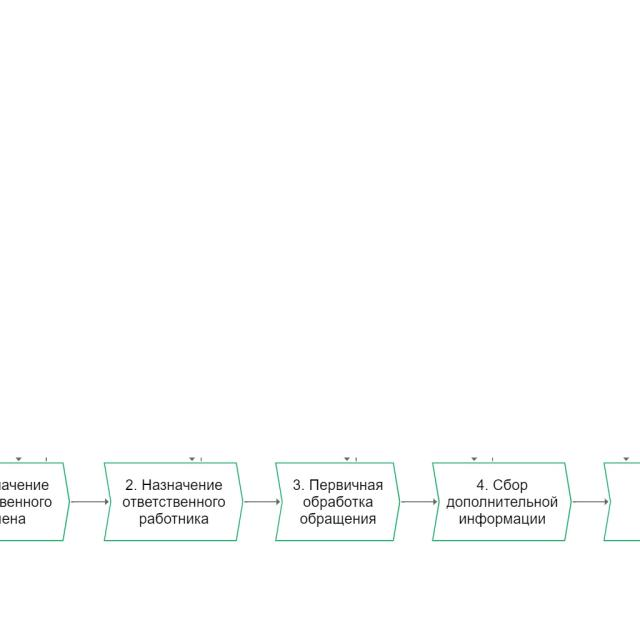arrow: (244, 499, 279, 505), (402, 499, 436, 505), (72, 499, 108, 504), (573, 499, 608, 504)
rectangle: (432, 462, 571, 541), (105, 462, 243, 541), (276, 462, 399, 541)
